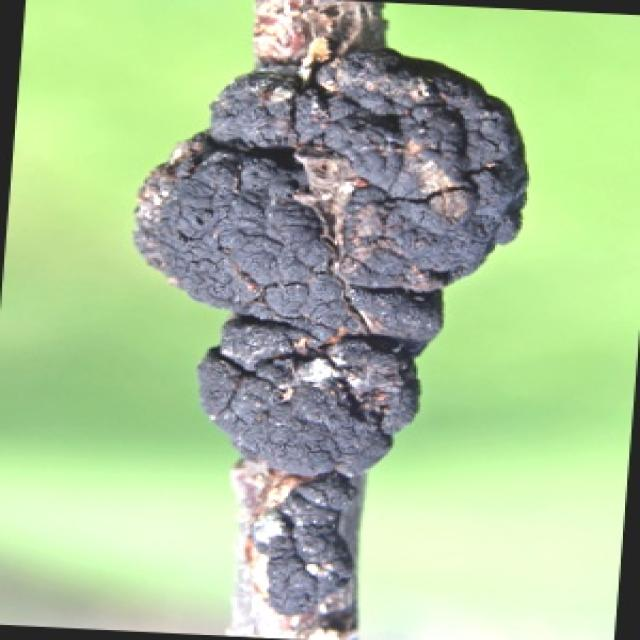Black_knot: (128, 0, 529, 638)
